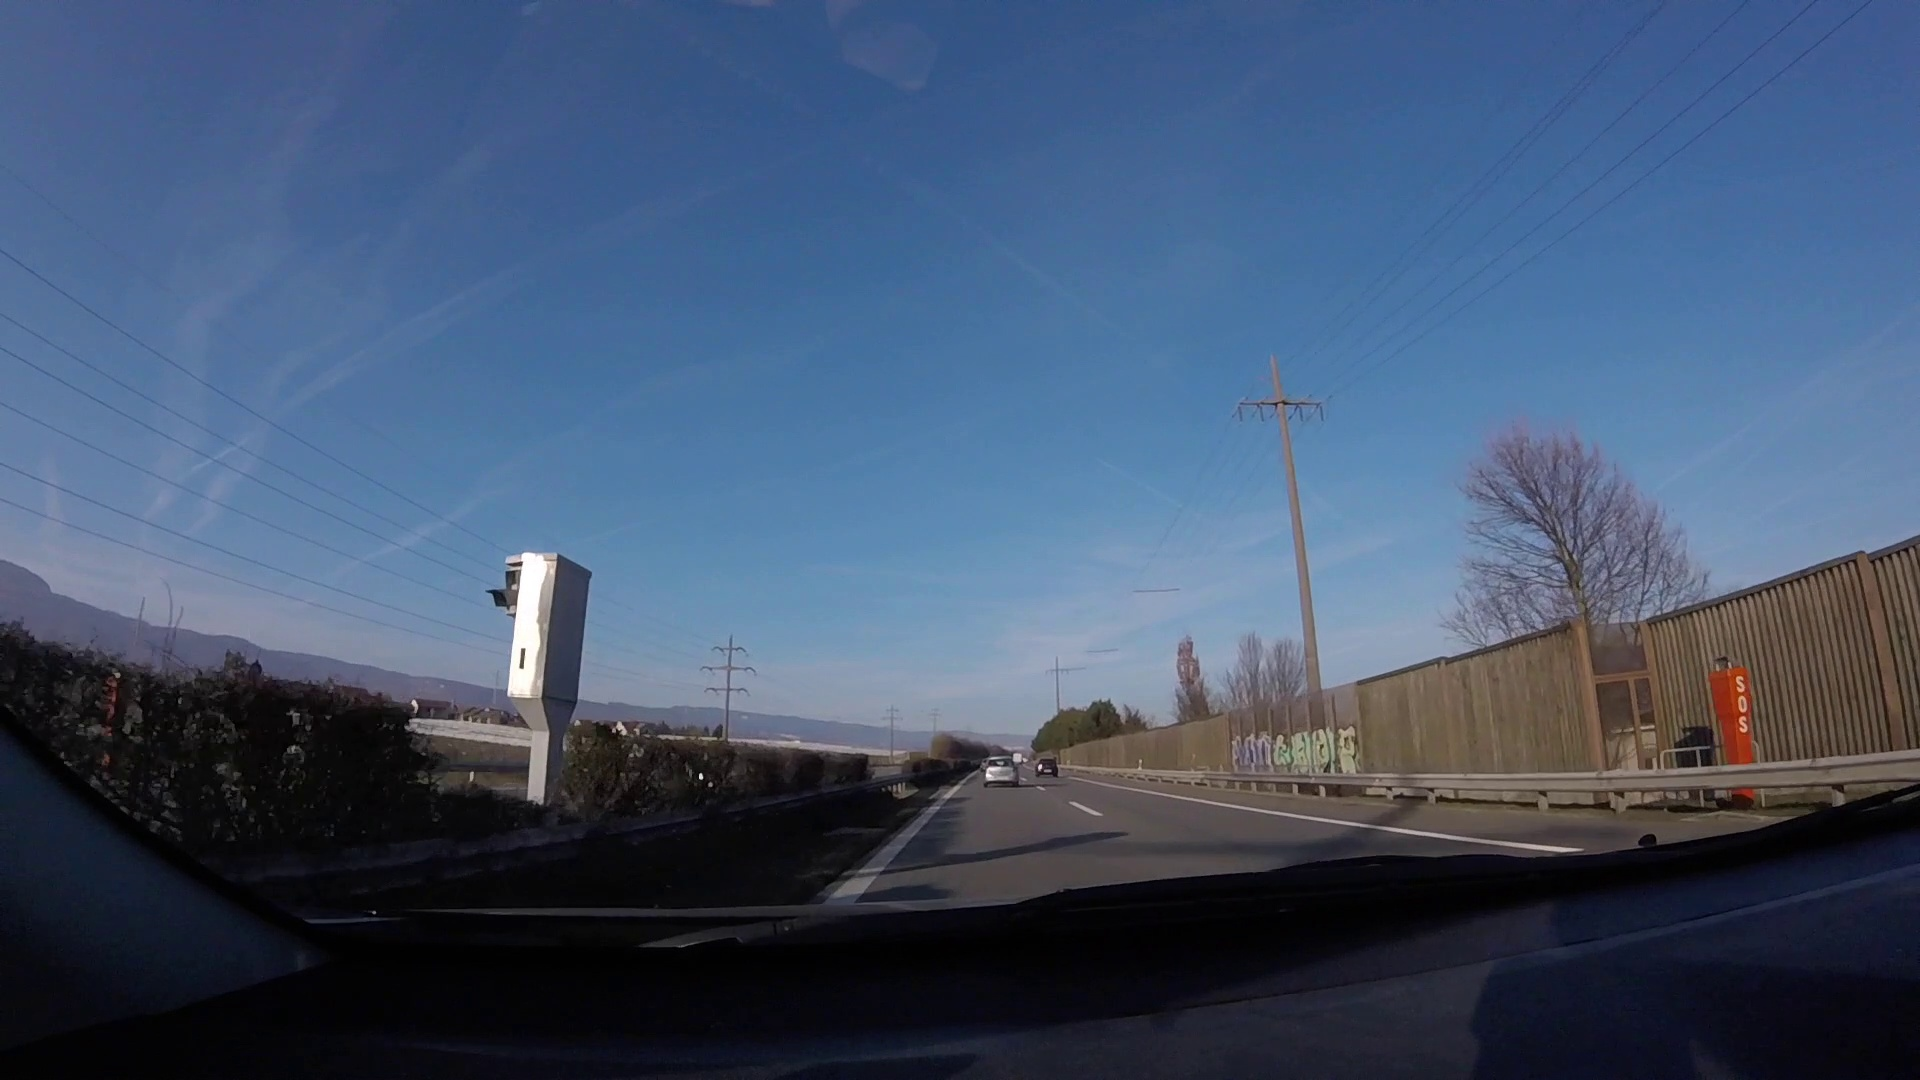radar: (485, 550, 597, 814)
